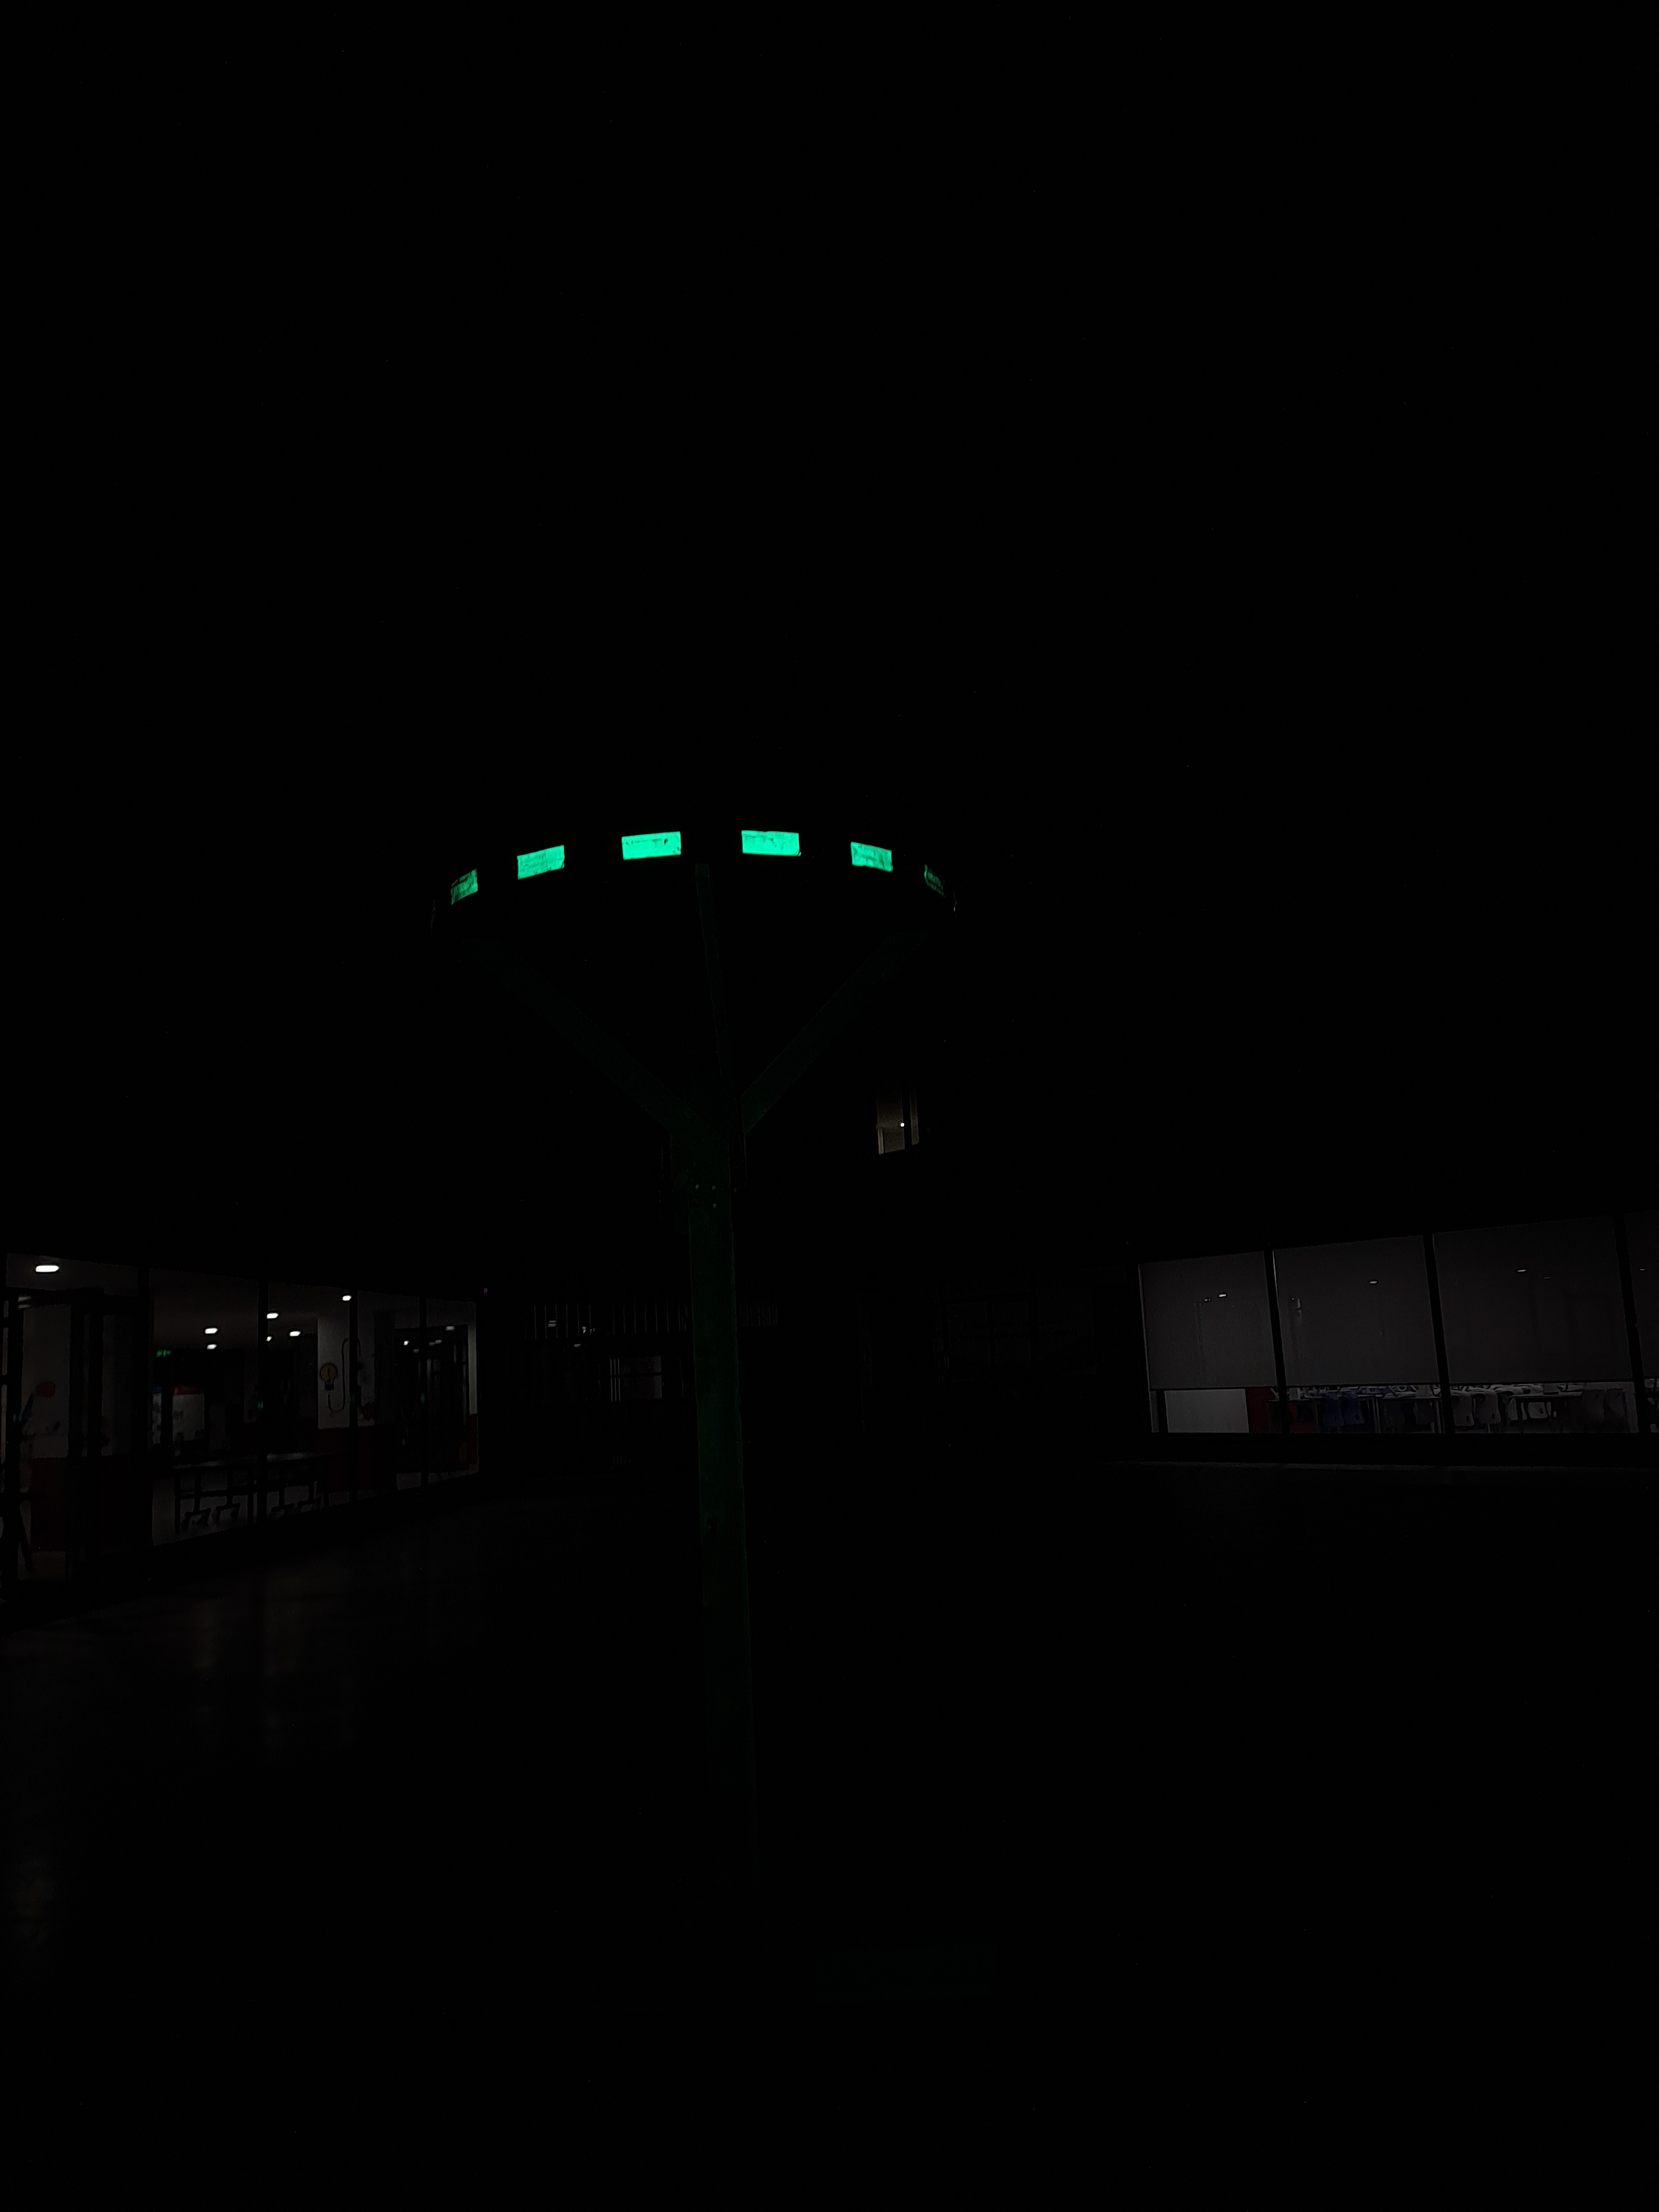hoop: (444, 829, 908, 906)
